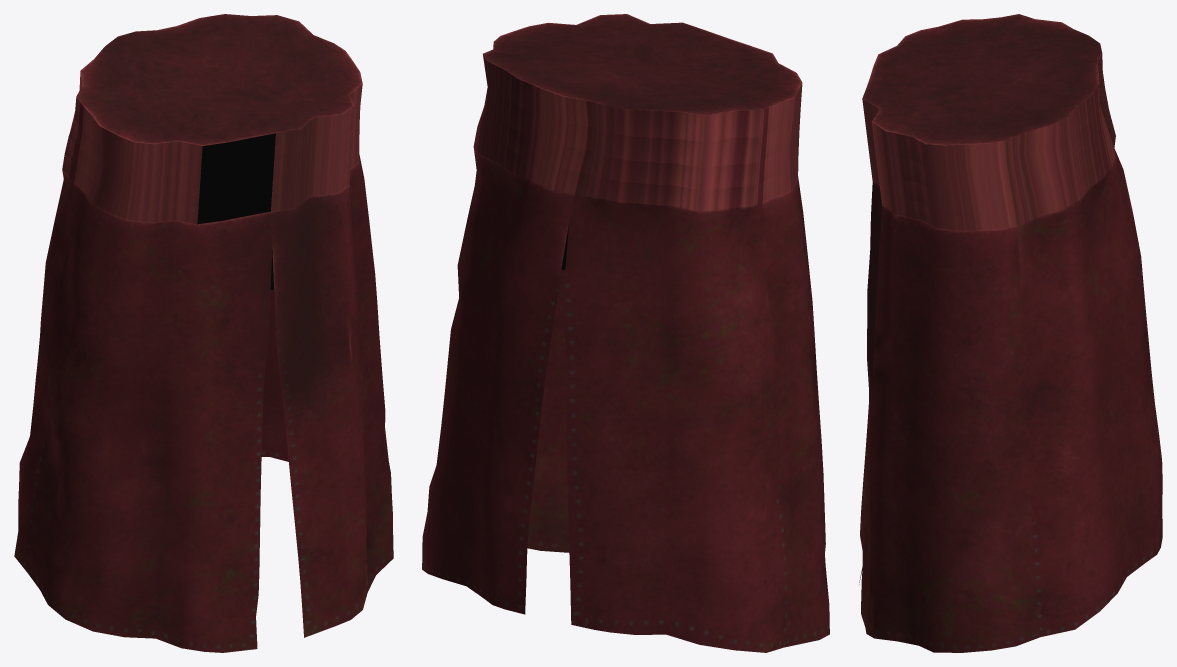
Rendered from clo_cts_rohan_armor1.fbx.
The picture shows the model from 3 angles, left to right: view 1: azimuth 30°, elevation 25°; view 2: azimuth 150°, elevation 25°; view 3: azimuth 270°, elevation 25°; orthographic projection. The views are drawn at different scales.
Parts seen in each view (by area): view 1: clo_cts_rohan_armor1; view 2: clo_cts_rohan_armor1; view 3: clo_cts_rohan_armor1.
Part boxes in pixels (box(x1,y1,x2,y2)): clo_cts_rohan_armor1: box(14, 14, 393, 652); clo_cts_rohan_armor1: box(422, 14, 829, 652); clo_cts_rohan_armor1: box(859, 14, 1162, 652).
Size of the model in its own units: 0.4832 by 0.3751 by 0.7294.
Materials: 1 (1 with a texture image).
